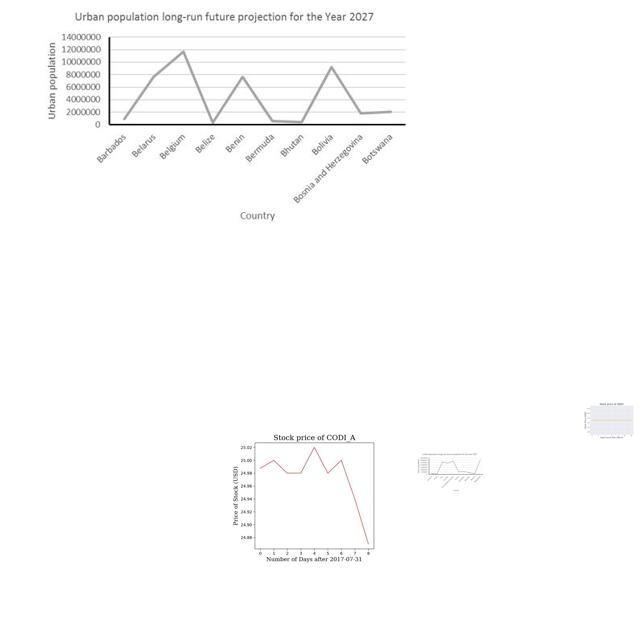Graph: (39, 5, 412, 229), (220, 426, 404, 564), (416, 452, 484, 492), (583, 399, 639, 441)
